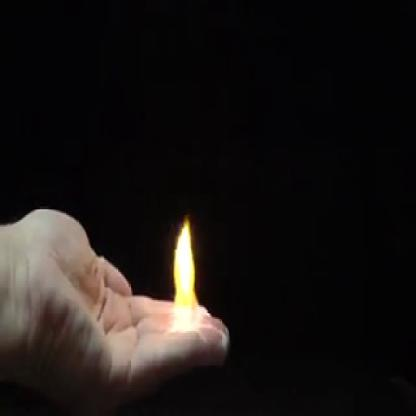fire: (168, 213, 204, 335)
